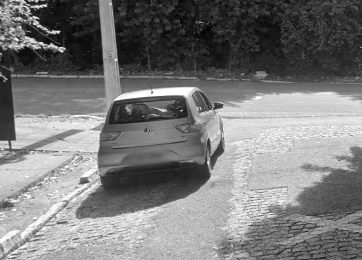car: (96, 78, 229, 194)
